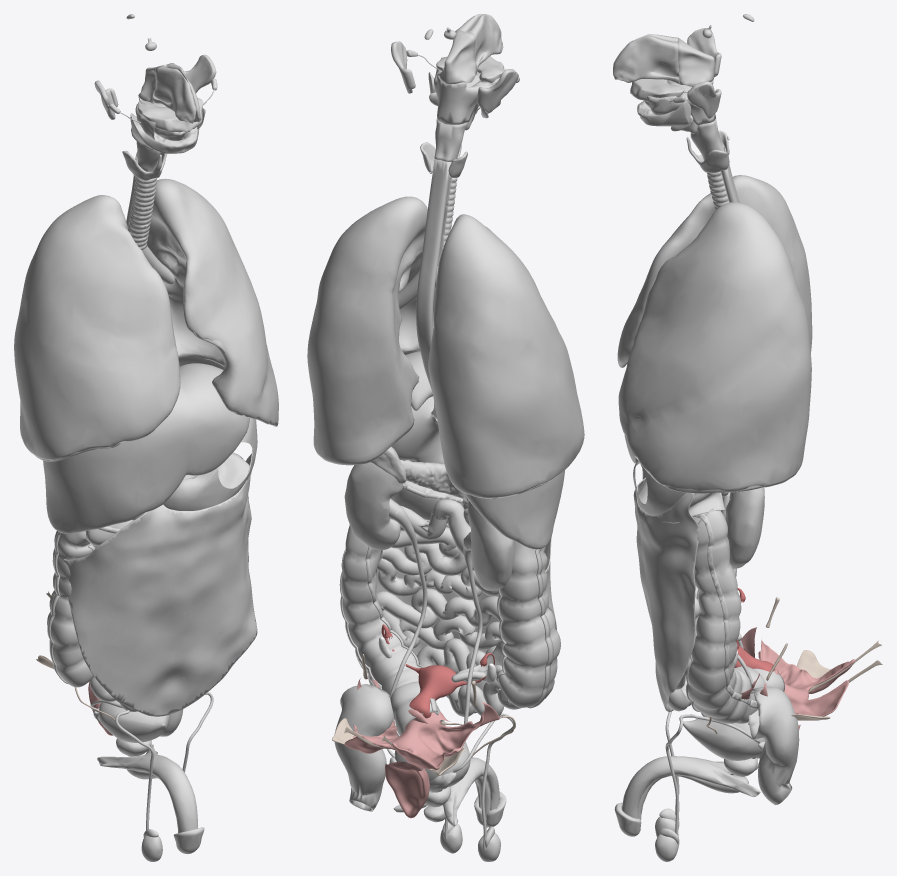
The model's file is VisceralSystem100.glb.
3 renders of one model, left to right at view 1: azimuth 30°, elevation 25°; view 2: azimuth 150°, elevation 25°; view 3: azimuth 270°, elevation 25°, orthographic. The views are drawn at different scales.
Parts seen in each view (by area): view 1: Pleura, Greater omentum, Liver, Ascending colon, Corpus cavernosum of penis, Stomach, Gingiva, Mucosa of nasal cavity, Urinary bladder, Trachea, Mesocolon, Mesocolic taenia (+5 smaller); view 2: Pleura, Jejunum, Ascending colon, Descending colon, Liver, Sigmoid colon, VH_F_broad_ligament, Kidney.l, Oesophagus, Kidney.r, Stomach, VH_F_vagina (+23 smaller); view 3: Pleura, Greater omentum, Descending colon, Sigmoid colon, VH_F_broad_ligament, Corpus cavernosum of penis, Mucosa of nasal cavity, Kidney.l, Urinary bladder, Gingiva, Nasopharynx, Mesocolic taenia (+11 smaller).
Part boxes in pixels (bbox=[...]): Pleura: bbox=[14, 178, 278, 460]; Greater omentum: bbox=[63, 449, 257, 716]; Liver: bbox=[43, 363, 249, 533]; Ascending colon: bbox=[47, 531, 93, 687]; Corpus cavernosum of penis: bbox=[97, 744, 197, 833]; Stomach: bbox=[163, 418, 257, 510]; Gingiva: bbox=[130, 97, 203, 153]; Mucosa of nasal cavity: bbox=[152, 63, 201, 123]; Urinary bladder: bbox=[98, 700, 170, 742]; Trachea: bbox=[128, 177, 156, 249]; Mesocolon: bbox=[218, 452, 251, 509]; Mesocolic taenia: bbox=[47, 526, 120, 683]; Pleura: bbox=[307, 196, 584, 498]; Jejunum: bbox=[376, 505, 521, 716]; Ascending colon: bbox=[498, 541, 560, 707]; Descending colon: bbox=[341, 526, 445, 735]; Liver: bbox=[405, 351, 564, 549]; Sigmoid colon: bbox=[334, 684, 393, 811]; VH_F_broad_ligament: bbox=[344, 674, 499, 770]; Kidney.l: bbox=[344, 462, 402, 550]; Oesophagus: bbox=[416, 159, 451, 419]; Kidney.r: bbox=[467, 501, 514, 590]; Stomach: bbox=[391, 396, 444, 463]; VH_F_vagina: bbox=[385, 761, 429, 818]; Pleura: bbox=[617, 175, 812, 491]; Greater omentum: bbox=[633, 468, 700, 711]; Descending colon: bbox=[688, 508, 784, 723]; Sigmoid colon: bbox=[748, 686, 799, 805]; VH_F_broad_ligament: bbox=[740, 627, 855, 716]; Corpus cavernosum of penis: bbox=[622, 756, 760, 818]; Mucosa of nasal cavity: bbox=[613, 34, 679, 83]; Kidney.l: bbox=[725, 487, 764, 568]; Urinary bladder: bbox=[683, 716, 765, 760]; Gingiva: bbox=[630, 79, 691, 126]; Nasopharynx: bbox=[678, 38, 714, 86]; Mesocolic taenia: bbox=[693, 514, 757, 708].
Size of the model in its own units: 0.2634 by 0.8931 by 0.2607.
